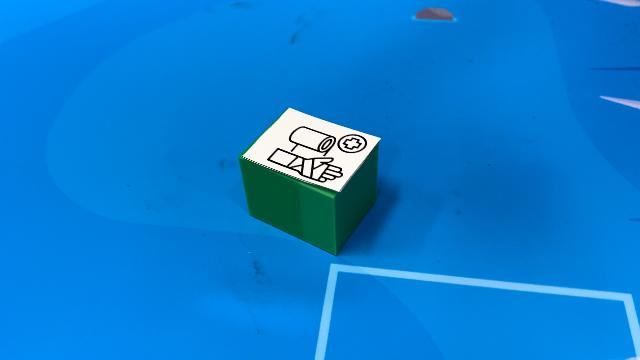bandage: (238, 104, 382, 256)
